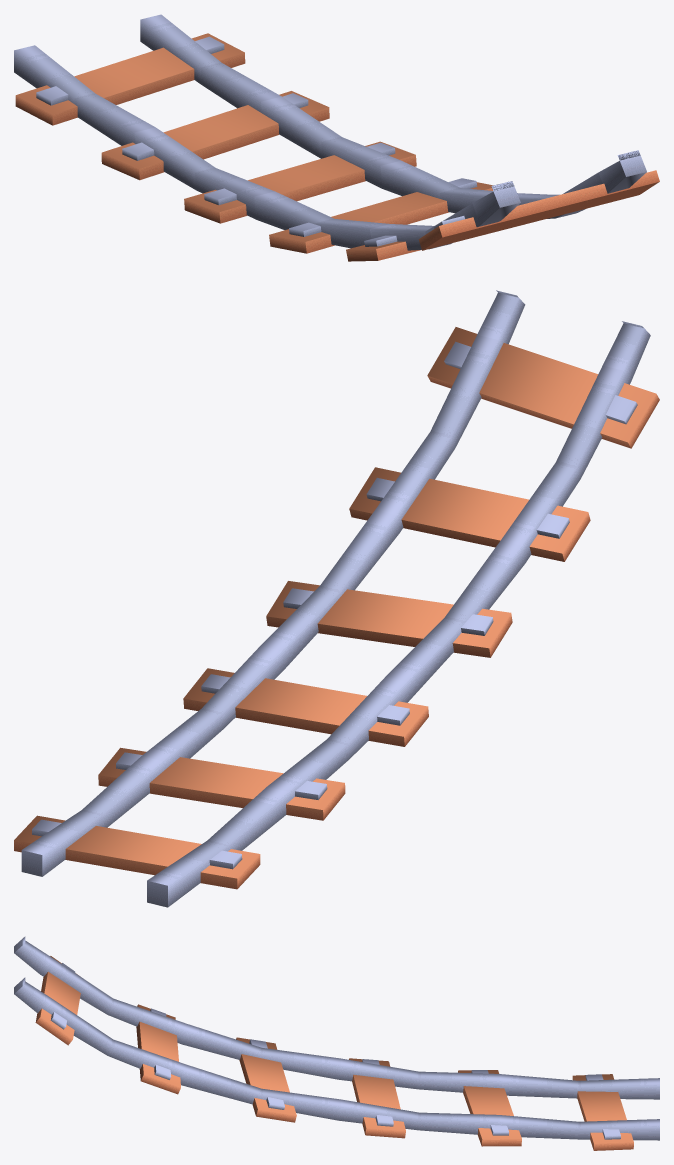
The model's file is railroad-damaged-straight-hill-beginning.glb.
3 renders of one model, top to bottom at view 1: azimuth 30°, elevation 25°; view 2: azimuth 150°, elevation 25°; view 3: azimuth 270°, elevation 25°, orthographic. The views are drawn at different scales.
Visible parts, largest first — view 1: railroad-damaged-straight-hill-beginning; view 2: railroad-damaged-straight-hill-beginning; view 3: railroad-damaged-straight-hill-beginning.
Boxes of the visible parts, x1=… form: railroad-damaged-straight-hill-beginning: x1=14, y1=14, x2=659, y2=261; railroad-damaged-straight-hill-beginning: x1=14, y1=290, x2=659, y2=907; railroad-damaged-straight-hill-beginning: x1=14, y1=936, x2=659, y2=1150.
Size of the model in its own units: 1.03 by 1.07 by 4.
Materials: 1 (1 with a texture image).
